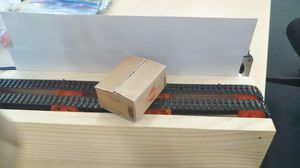box1: (93, 54, 166, 122)
